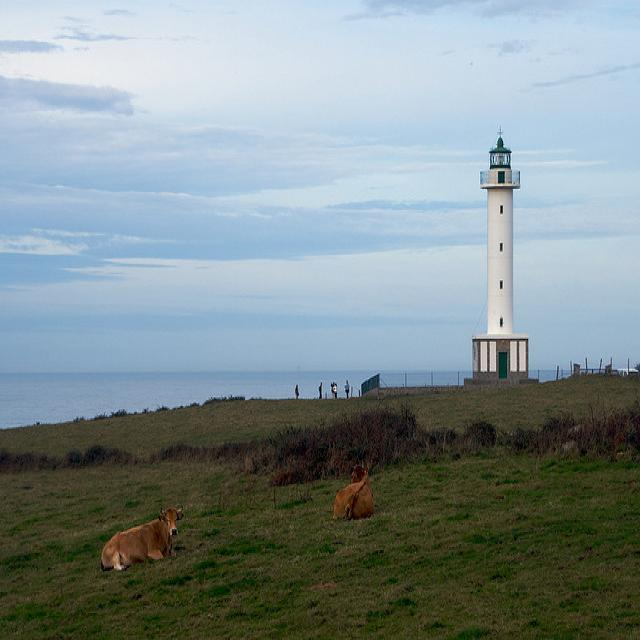cow: (97, 502, 182, 570), (332, 457, 374, 517)
